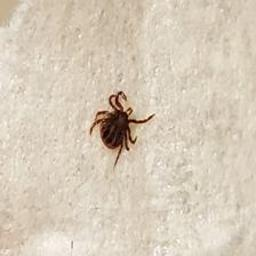Rhipicephalus sanguineus: (89, 90, 157, 171)
